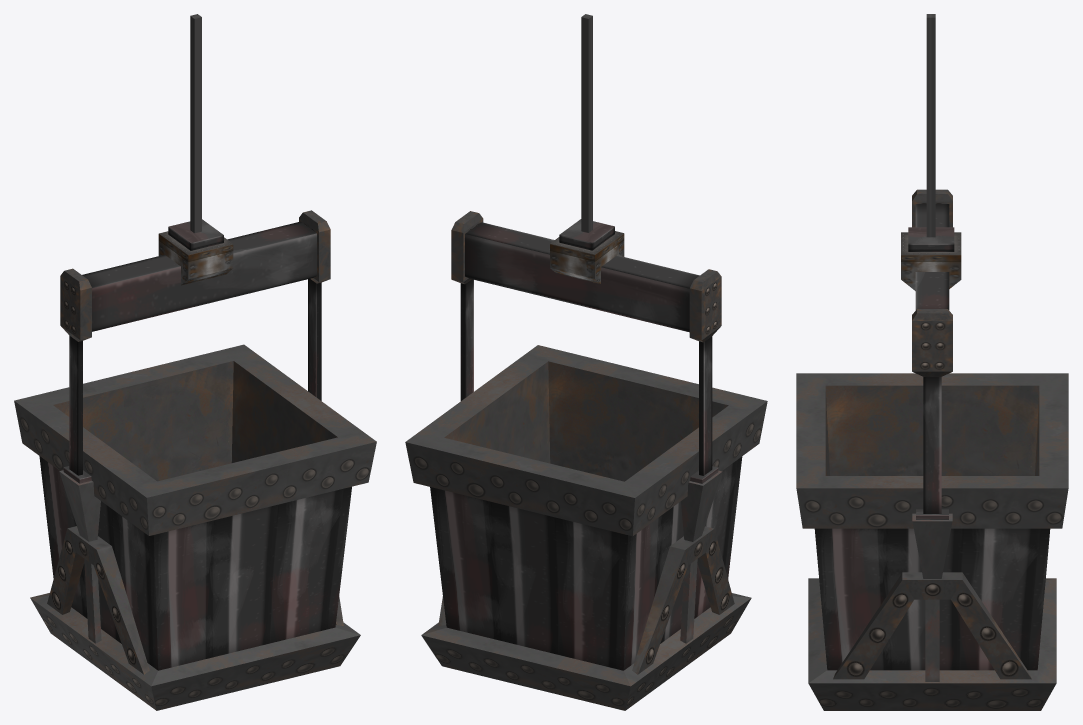
File: molten_bucket.fbx
3 renders of one model, left to right at view 1: azimuth 30°, elevation 25°; view 2: azimuth 150°, elevation 25°; view 3: azimuth 270°, elevation 25°, orthographic. The views are drawn at different scales.
Parts seen in each view (by area): view 1: Bucket; view 2: Bucket; view 3: Bucket.
Boxes of the visible parts, left/top/right/bottom form: Bucket: left=14, top=14, right=376, bottom=710; Bucket: left=405, top=14, right=767, bottom=710; Bucket: left=796, top=14, right=1068, bottom=710.
Bounding box in the file's own units: 388 × 929 × 353.
